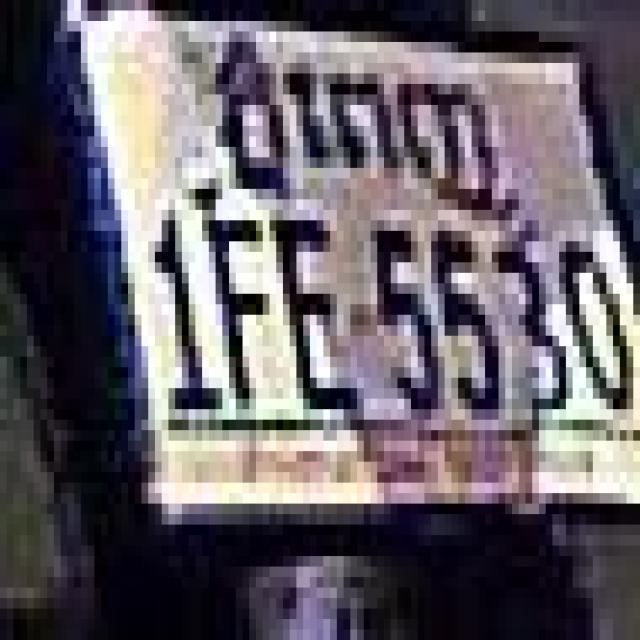Phnom_Penh: (216, 32, 494, 216)
